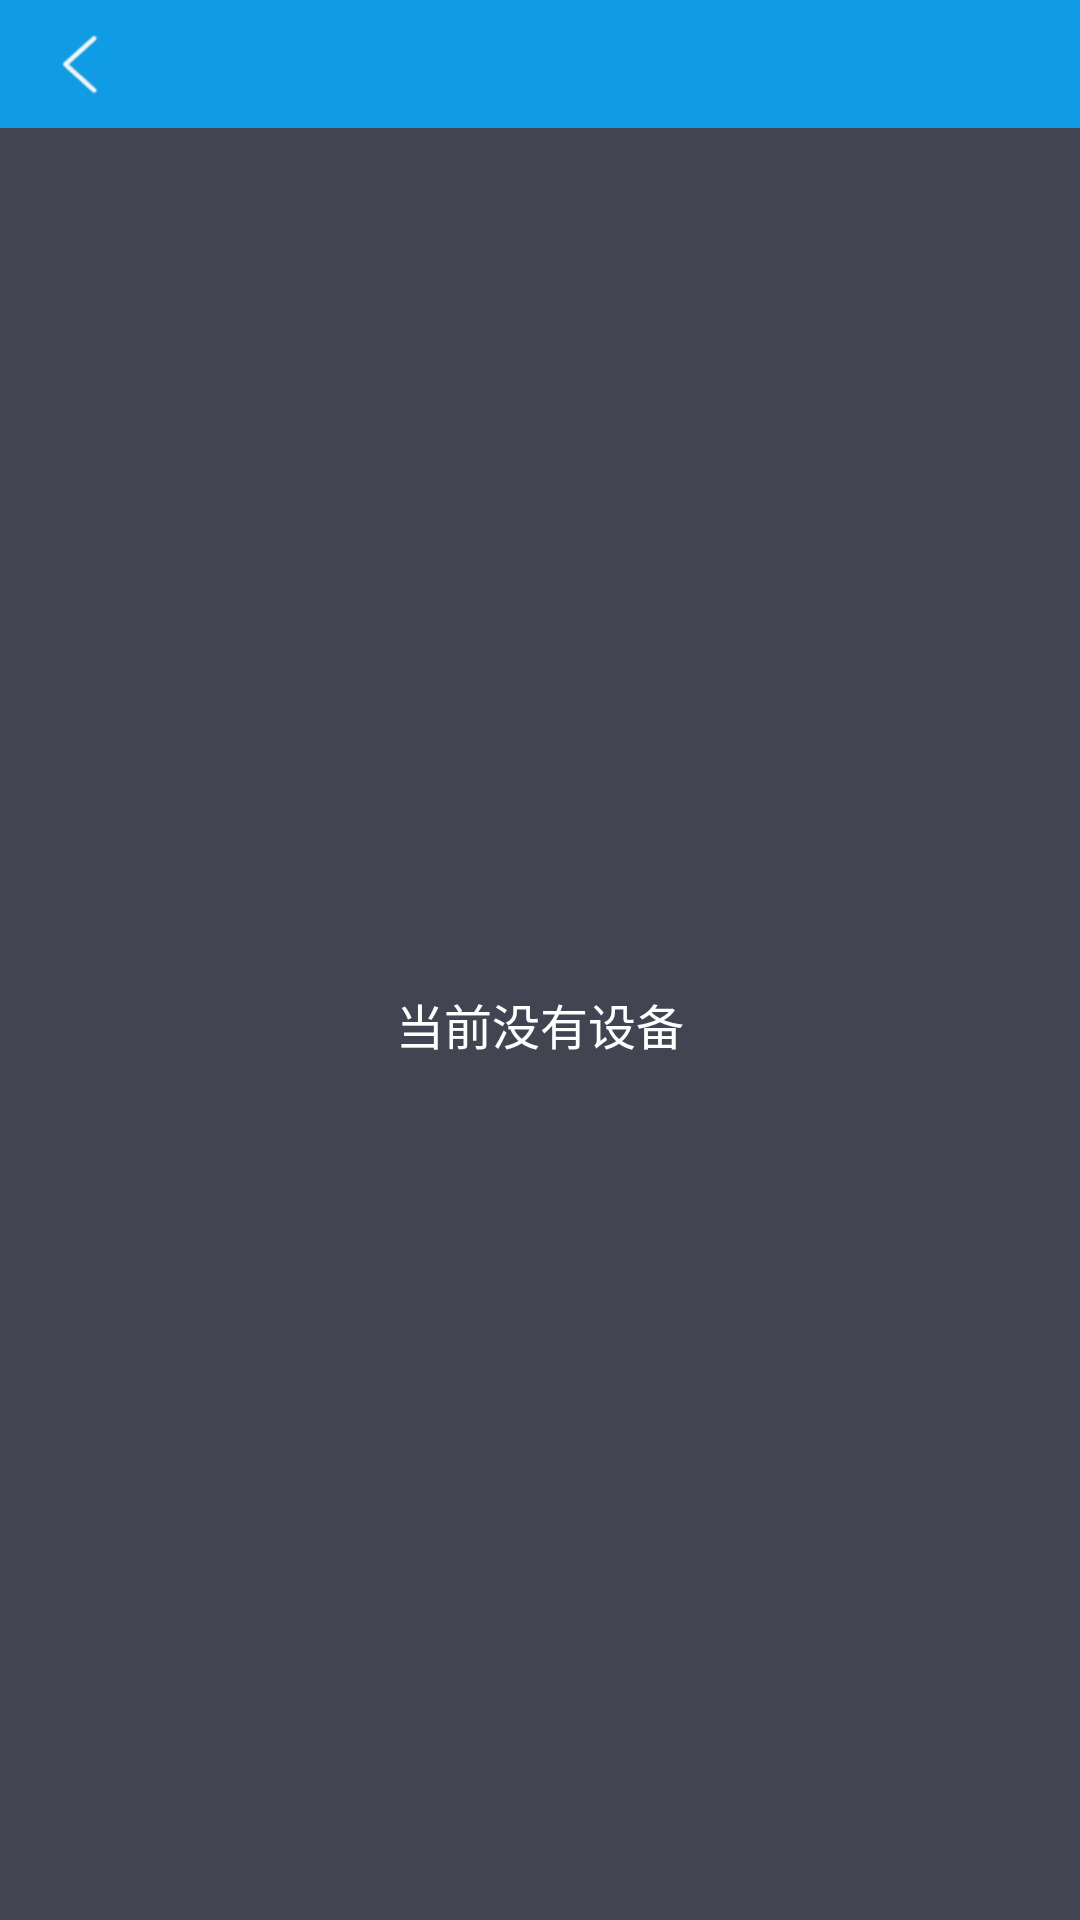

Screen size 1080px×1920px. Icon name, then its box in pixels as (x1, y1, x2, y2):
back: (62, 35, 98, 94)
